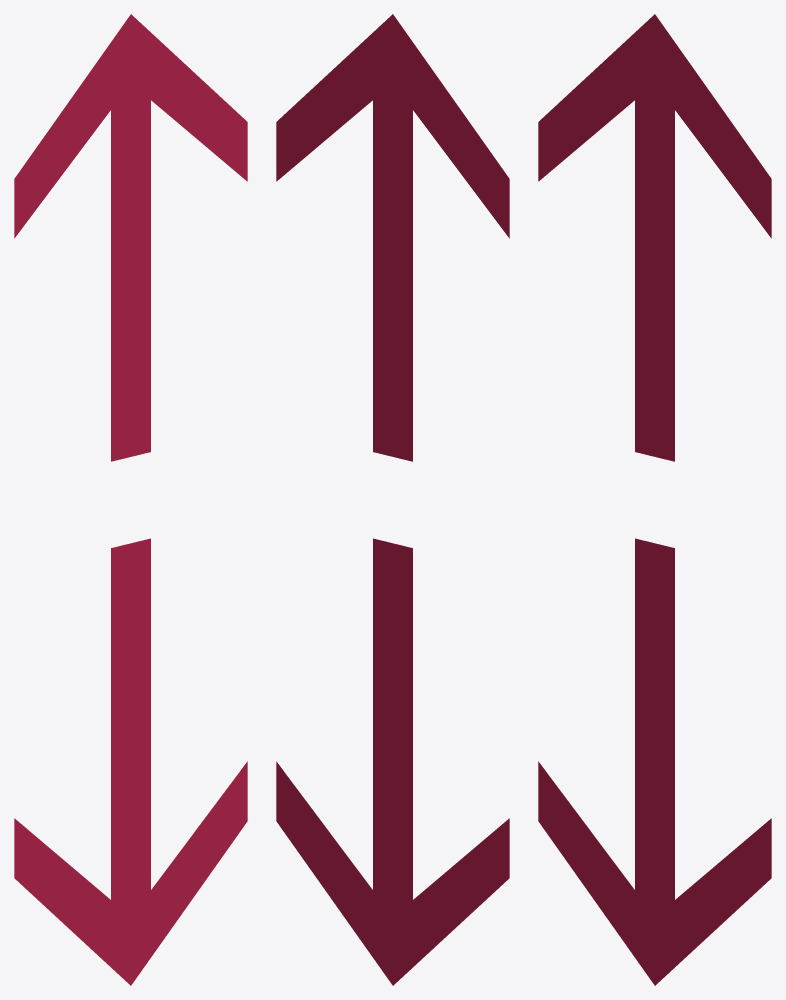
File: upAndDownText.obj
The picture shows the model from 3 angles, left to right: view 1: azimuth 30°, elevation 25°; view 2: azimuth 150°, elevation 25°; view 3: azimuth 330°, elevation 25°; orthographic projection.
Parts seen in each view (by area): view 1: テキスト; view 2: テキスト; view 3: テキスト.
Part boxes in pixels (bbox=[...]): テキスト: bbox=[14, 14, 247, 985]; テキスト: bbox=[276, 14, 509, 985]; テキスト: bbox=[538, 14, 771, 985].
Size of the model in its own units: 0.4639 by 1.85 by 0.
